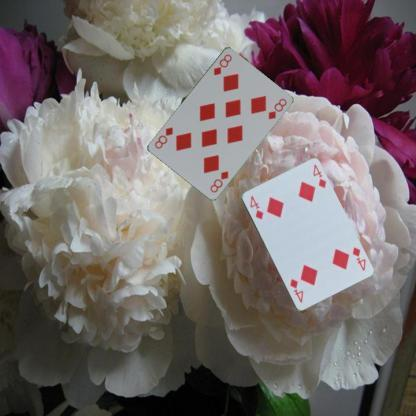4d: (247, 193, 265, 221), (349, 245, 367, 272)
8d: (207, 168, 230, 194), (211, 52, 233, 76)
